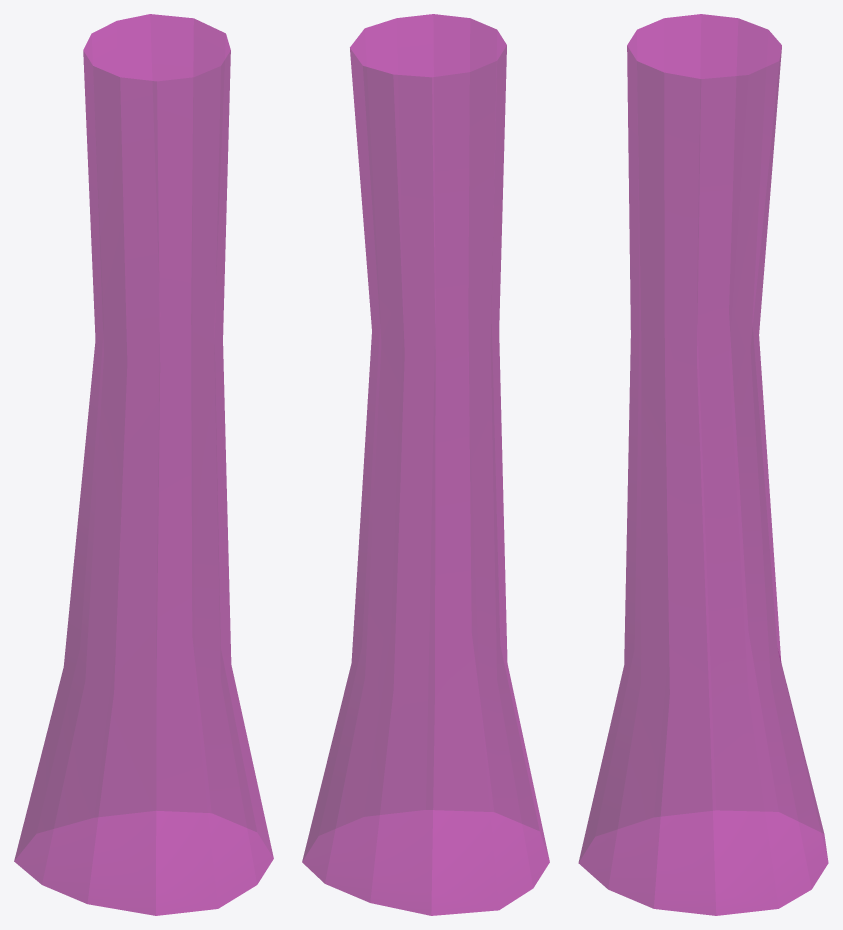
Rendered from SM_Env_Tree_02_Collision.fbx.
3 renders of one model, left to right at view 1: azimuth 30°, elevation 25°; view 2: azimuth 150°, elevation 25°; view 3: azimuth 270°, elevation 25°, orthographic.
Parts seen in each view (by area): view 1: SM_Env_Tree_02_Collision; view 2: SM_Env_Tree_02_Collision; view 3: SM_Env_Tree_02_Collision.
Part boxes in pixels (<box>): SM_Env_Tree_02_Collision: <box>14,14,273,915</box>; SM_Env_Tree_02_Collision: <box>302,14,549,915</box>; SM_Env_Tree_02_Collision: <box>578,14,828,915</box>.
Size of the model in its own units: 174 by 649 by 174.
